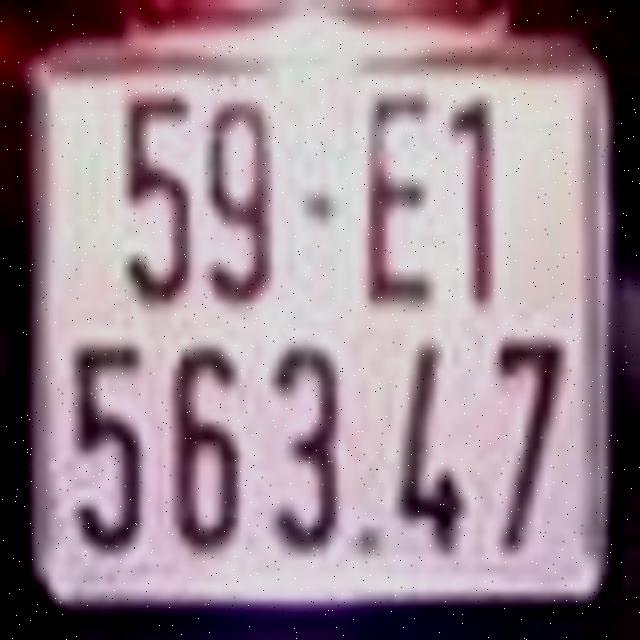1: (450, 91, 500, 303)
3: (272, 344, 341, 550)
4: (400, 343, 466, 554)
5: (71, 341, 145, 552), (122, 91, 195, 303)
6: (172, 342, 242, 550)
7: (495, 331, 566, 552)
9: (207, 98, 272, 302)
E: (369, 90, 434, 304)
